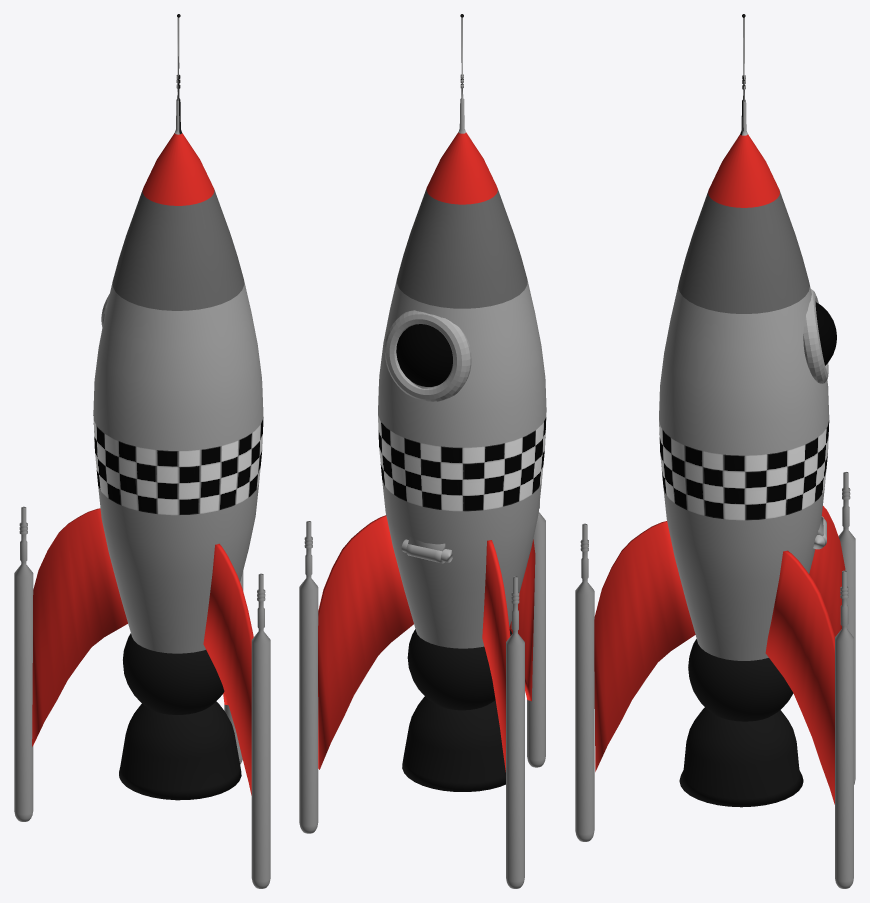
The model's file is Rocket.fbx.
3 renders of one model, left to right at view 1: azimuth 30°, elevation 25°; view 2: azimuth 150°, elevation 25°; view 3: azimuth 270°, elevation 25°, orthographic.
Visible parts, largest first — view 1: Cylinder, Plane.000, Cylinder.007, Cylinder.014, Cylinder.002, Plane.002, Sphere.001, Cylinder.005, Cylinder.003, Cylinder.008; view 2: Cylinder, Plane.001, Cylinder.007, Cylinder.014, Cylinder.002, Cylinder.004, Cylinder.003, Sphere.001, Cylinder.005, Torus, Cylinder.008, Plane.000 (+2 smaller); view 3: Cylinder, Plane.002, Cylinder.007, Cylinder.014, Cylinder.002, Plane.001, Sphere.001, Cylinder.005, Cylinder.004, Cylinder.008, Plane.000, Cylinder.003 (+2 smaller).
Part boxes in pixels (x1,y1,x2,y2): Cylinder: (93, 134, 263, 653); Plane.000: (32, 508, 127, 746); Cylinder.007: (112, 190, 244, 310); Cylinder.014: (93, 415, 263, 515); Cylinder.002: (119, 701, 241, 800); Plane.002: (203, 543, 253, 795); Sphere.001: (123, 633, 224, 714); Cylinder.005: (251, 573, 270, 888); Cylinder.003: (14, 506, 33, 821); Cylinder.008: (142, 133, 214, 205); Cylinder: (378, 278, 546, 648); Plane.001: (318, 515, 413, 769); Cylinder.007: (397, 188, 527, 308); Cylinder.014: (378, 412, 546, 511); Cylinder.002: (402, 696, 505, 791); Cylinder.004: (299, 521, 318, 833); Cylinder.003: (506, 576, 524, 888); Sphere.001: (407, 629, 512, 710); Cylinder.005: (527, 501, 545, 767); Torus: (384, 310, 471, 401); Cylinder.008: (426, 132, 497, 204); Plane.000: (482, 540, 510, 771); Cylinder: (659, 286, 829, 660); Plane.002: (594, 521, 695, 771); Cylinder.007: (678, 191, 809, 313); Cylinder.014: (659, 420, 829, 520); Cylinder.002: (679, 707, 803, 807); Plane.001: (765, 550, 834, 804); Sphere.001: (688, 639, 793, 721); Cylinder.005: (575, 523, 594, 841); Cylinder.004: (835, 570, 853, 888); Cylinder.008: (708, 134, 779, 207); Plane.000: (809, 506, 845, 636); Cylinder.003: (838, 472, 855, 784).
Size of the model in its own units: 1010 by 3493 by 1076.
